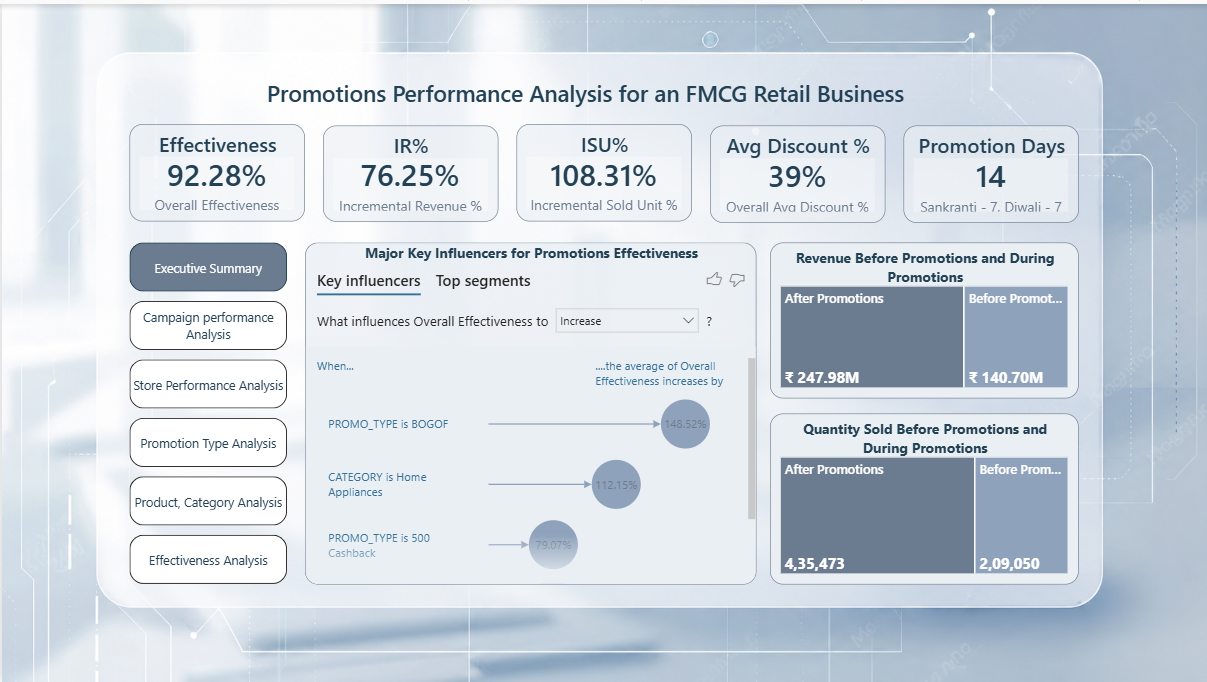

What the dashboard file says about the page in this screenshot:
{"tool":"powerbi","page":{"name":"Executive Summary","canvas":[1280,720],"ordinal":0},"visuals":[{"type":"textbox","box":[219.5,60.4,798.5,66.8],"z":0},{"type":"pageNavigator","box":[135.2,252.9,167,362.7],"z":1000},{"type":"treemap","title":"Quantity Sold Before Promotions and During Promotions","fields":{"Values":["FACT_EVENTS.Total Quantity sold after prom","FACT_EVENTS.Total Quantity sold before Prom"]},"box":[814.4,434.2,327.7,181.3],"z":2000},{"type":"treemap","title":"Revenue Before Promotions and During Promotions ","fields":{"Values":["FACT_EVENTS.Total Revenue after prom","FACT_EVENTS.Total Revenue before prom"]},"box":[814.4,252.9,327.7,165.4],"z":3000},{"type":"cardVisual","title":"IR%","fields":{"Data":["FACT_EVENTS.IR%"]},"box":[340.4,128.8,186.1,101.8],"z":4000,"group":"g1"},{"type":"keyDriversVisual","title":"Major Key Influencers for Promotions Effectiveness","fields":{"ExplainBy":["DIM_CAMPAIGNS.CAMPAIGN_NAME","DIM_STORES.CITY","FACT_EVENTS.PROMO_TYPE","DIM_PRODUCTS.CATEGORY"],"Target":["FACT_EVENTS.Overall Effectiveness"]},"box":[321.3,252.9,478.8,362.7],"z":4000},{"type":"group","id":"g1","title":"Group 1","box":[135.2,127.2,1006.9,105],"z":5000},{"type":"cardVisual","title":"ISU%","fields":{"Data":["FACT_EVENTS.ISU%"]},"box":[545.6,127.9,186,103],"z":5000,"group":"g1"},{"type":"cardVisual","title":"Promotion Days","fields":{"Data":["DIM_CAMPAIGNS.Total Promotion Days"]},"box":[956,128.5,186,103],"z":6000,"group":"g1"},{"type":"cardVisual","title":"Effectiveness","fields":{"Data":["FACT_EVENTS.Overall Effectiveness"]},"box":[135.2,127.2,186,103.4],"z":7000,"group":"g1"},{"type":"cardVisual","title":"Avg Discount %","fields":{"Data":["FACT_EVENTS.Average Discount pct"]},"box":[750.8,128.2,186,103],"z":8000,"group":"g1"}]}

Visuals, with their boxes in screenshot pixels (x1, y1, x2, y2), scaled from the page's 1280x720 canvas onto the 1207x682 screenshot:
textbox: l=207, t=57, r=960, b=120
pageNavigator: l=127, t=240, r=285, b=583
"Quantity Sold Before Promotions and During Promotions" treemap: l=768, t=411, r=1077, b=583
"Revenue Before Promotions and During Promotions " treemap: l=768, t=240, r=1077, b=396
"IR%" cardVisual: l=321, t=122, r=496, b=218
"Major Key Influencers for Promotions Effectiveness" keyDriversVisual: l=303, t=240, r=754, b=583
"Group 1" group: l=127, t=120, r=1077, b=220
"ISU%" cardVisual: l=514, t=121, r=690, b=219
"Promotion Days" cardVisual: l=901, t=122, r=1077, b=219
"Effectiveness" cardVisual: l=127, t=120, r=303, b=218
"Avg Discount %" cardVisual: l=708, t=121, r=883, b=219
